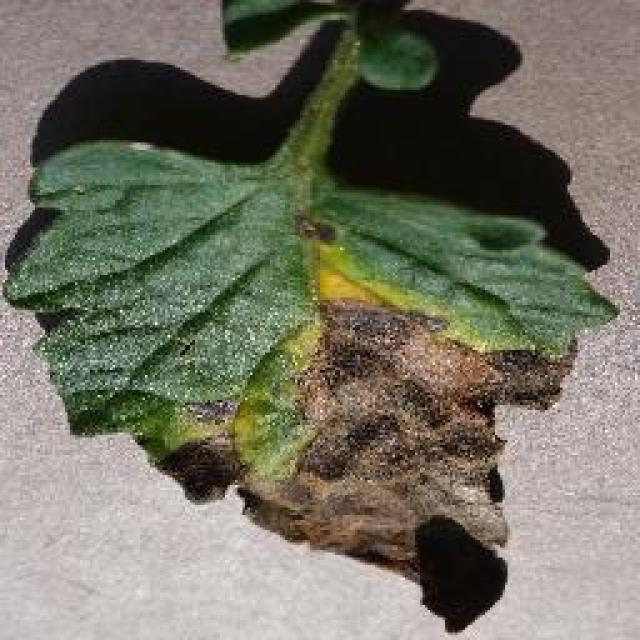Tomato___Early_blight: (3, 0, 621, 638)
